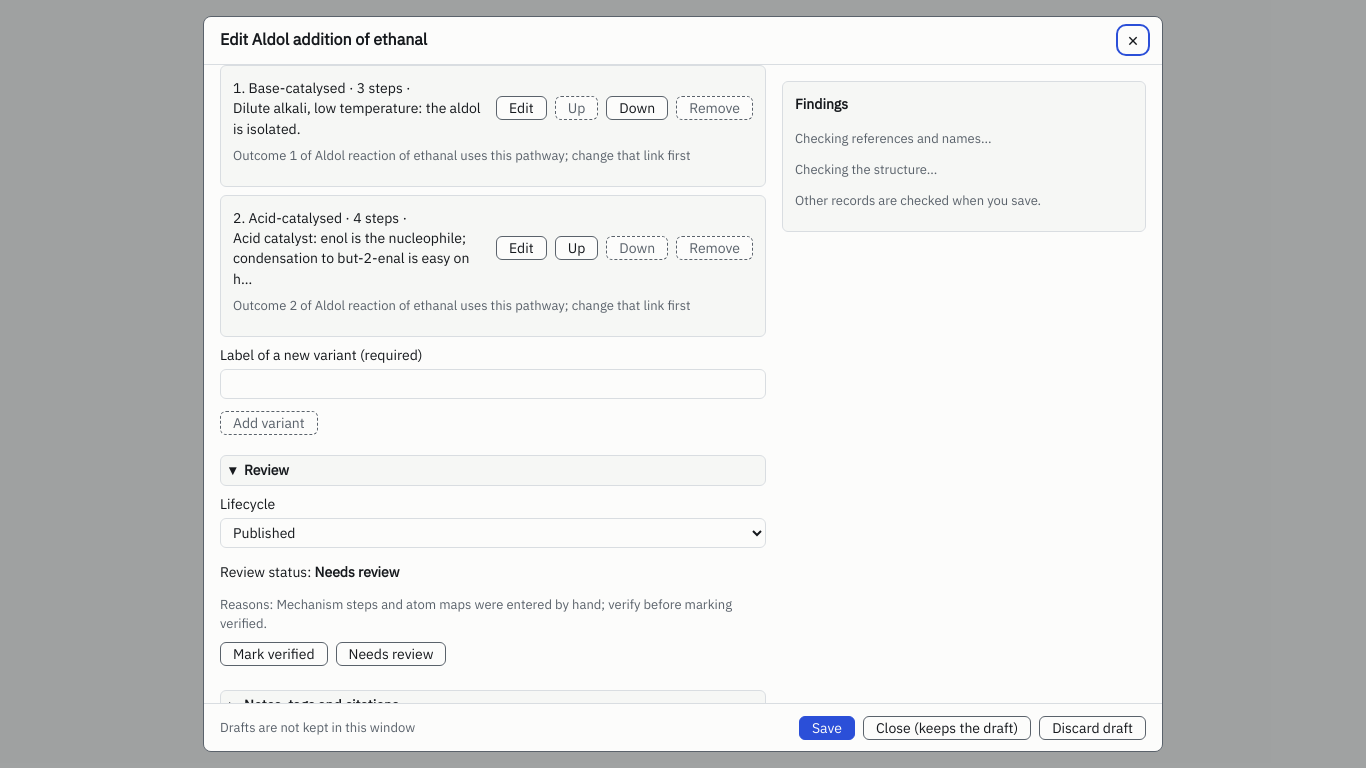
adding, moving and removing variants › Add variant needs a label, appends a variant with no steps and opens it
(page scrolled)
Step 1. Type "Enamine pathway" into the field labelled "Label of a new variant (required)" → (493, 384), box [220, 369, 766, 399]
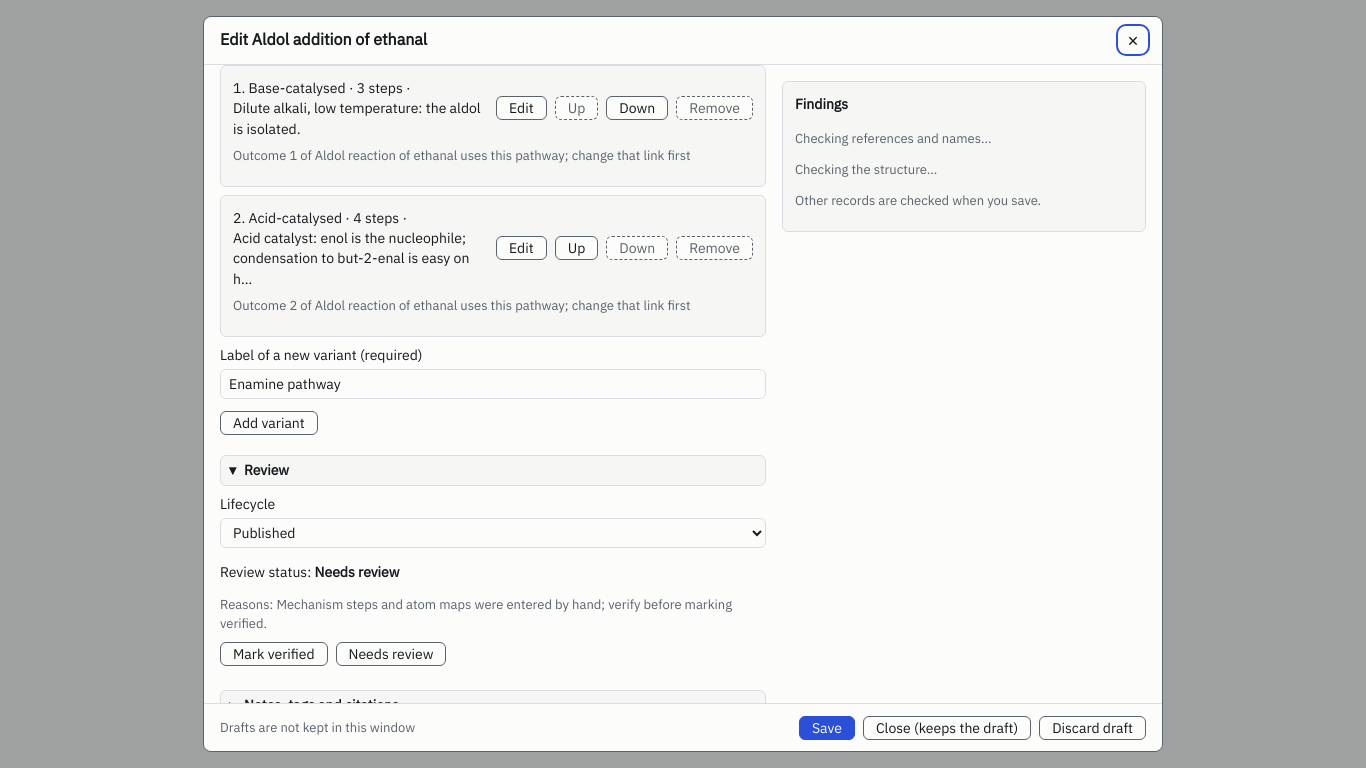
Step 2. Click the button "Add variant" → (269, 423), box [220, 411, 318, 435]
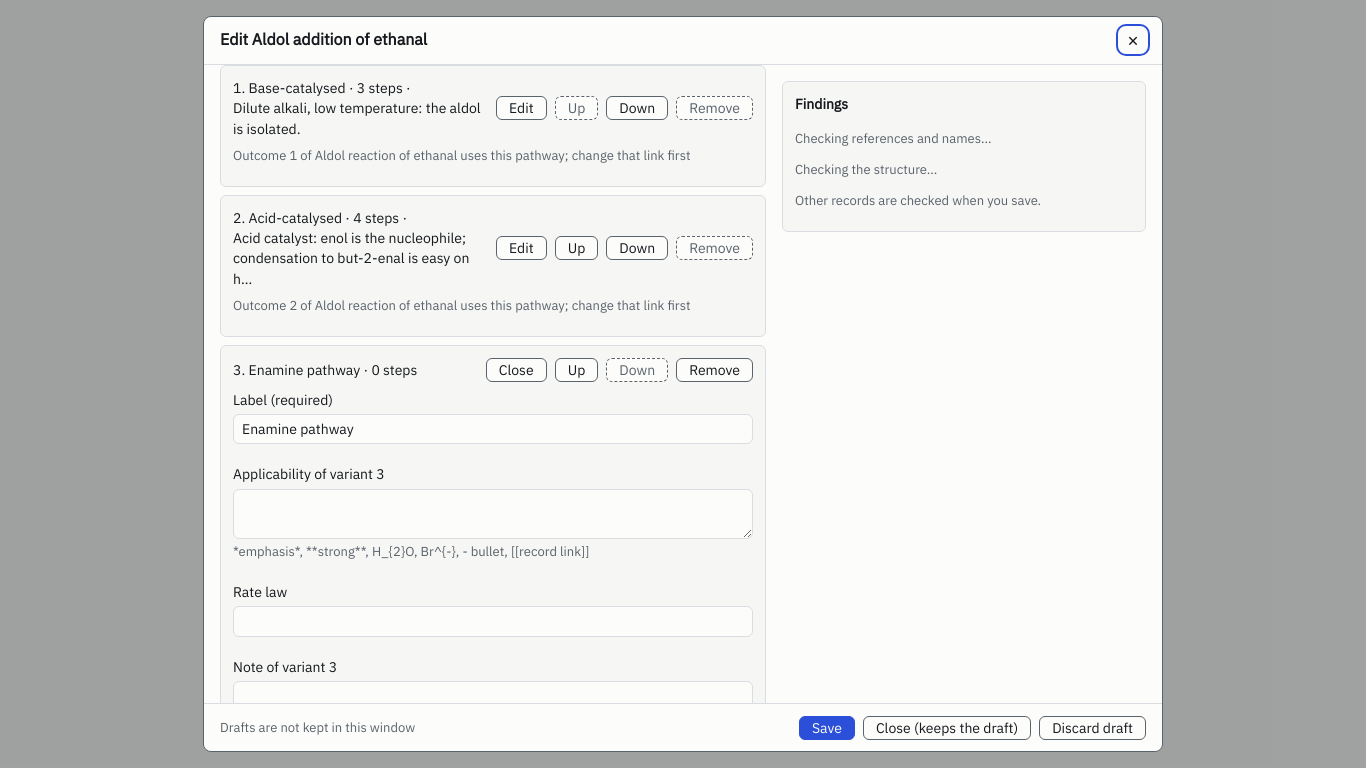
Result: the element showing "3. Enamine pathway · 0 steps" is shown at [233, 360, 417, 378]
Result: the field named "Label of variant 3" is shown at [233, 414, 753, 444]
